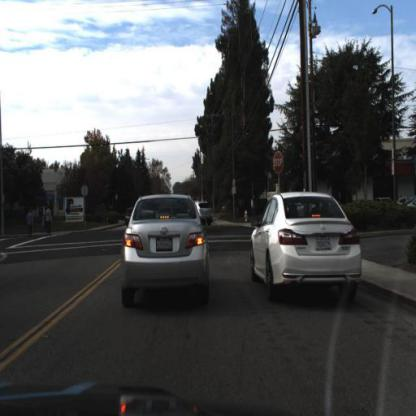car: (250, 189, 365, 305), (121, 193, 209, 308)
pedestrian: (25, 204, 34, 239), (46, 205, 54, 236)
